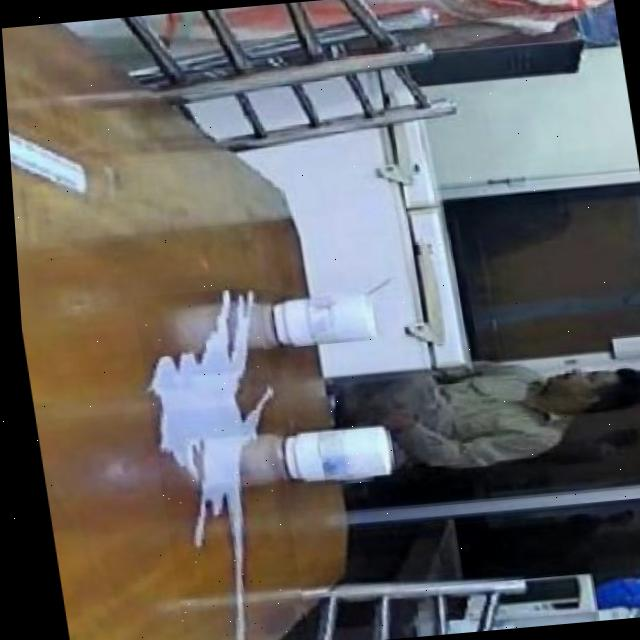spillage: (141, 288, 265, 640)
